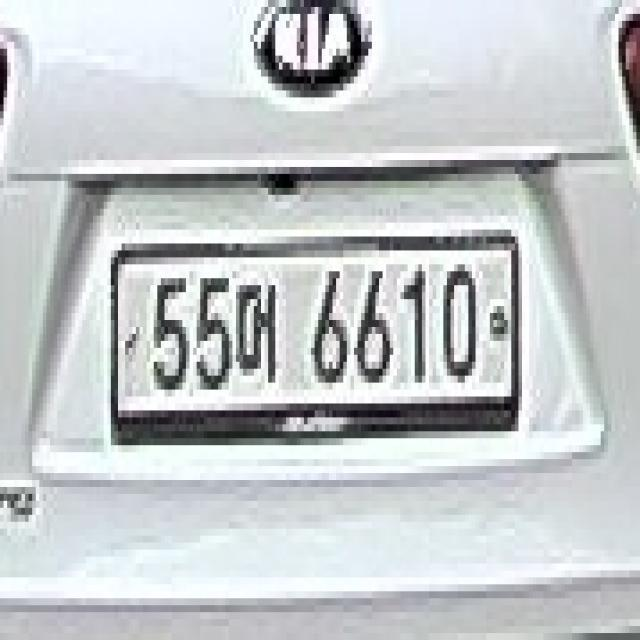0: (436, 261, 480, 378)
1: (397, 259, 432, 386)
5: (150, 269, 190, 392), (195, 268, 233, 392)
6: (308, 258, 350, 388), (353, 256, 393, 384)
license_plate: (107, 230, 527, 440)
meo: (236, 268, 280, 392)
